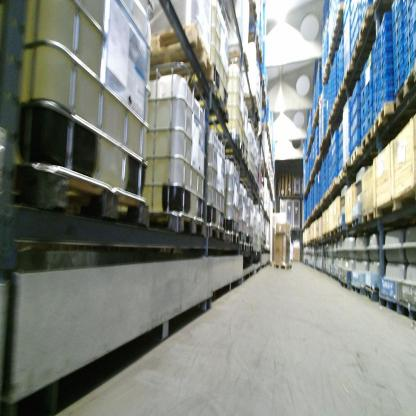pallet: (6, 163, 154, 228), (142, 22, 213, 88), (149, 204, 208, 240), (374, 99, 416, 137), (197, 83, 230, 123), (349, 35, 382, 68), (359, 6, 389, 41), (395, 67, 416, 111), (349, 143, 389, 166), (203, 222, 240, 244), (342, 63, 372, 86), (361, 126, 393, 147), (217, 131, 241, 154), (227, 47, 250, 71), (330, 26, 348, 48), (334, 3, 349, 28), (337, 83, 359, 100), (246, 3, 260, 28), (245, 92, 260, 115), (329, 112, 350, 128), (326, 44, 343, 63), (363, 283, 377, 304), (332, 98, 347, 117), (272, 259, 292, 272), (247, 31, 260, 50), (240, 173, 256, 188), (239, 151, 251, 171), (339, 170, 358, 182), (343, 162, 361, 174), (324, 59, 331, 86), (350, 283, 364, 296), (331, 178, 346, 189), (339, 280, 351, 293), (249, 182, 260, 195), (258, 98, 268, 111), (257, 48, 264, 65), (262, 75, 267, 96), (328, 182, 333, 199)
